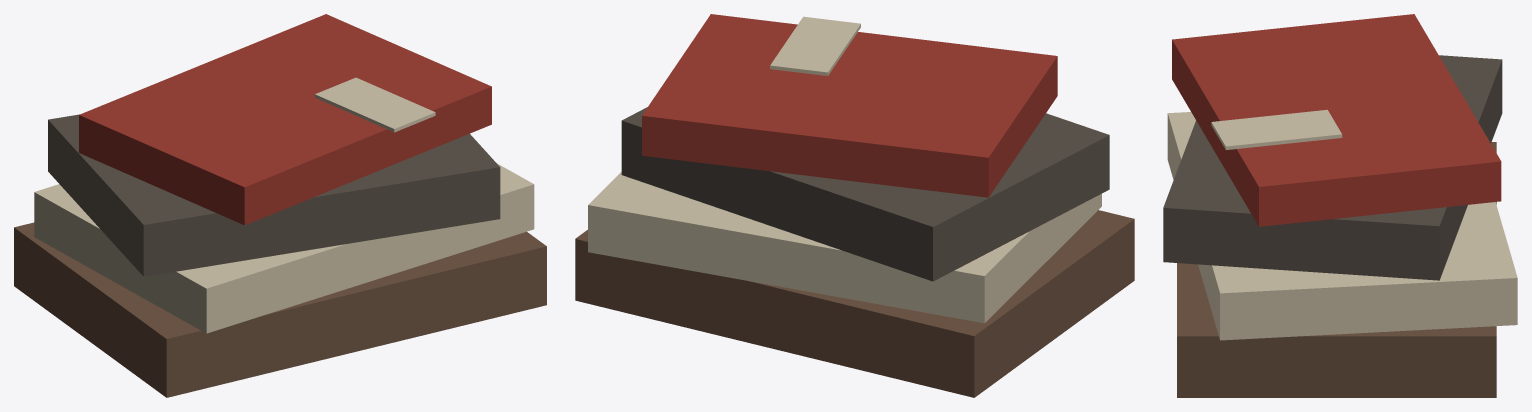
The model's file is book-stack.glb.
3 views of the same model, side by side, from view 1: azimuth 30°, elevation 25°; view 2: azimuth 150°, elevation 25°; view 3: azimuth 270°, elevation 25° (orthographic). The views are drawn at different scales.
Visible parts, largest first — view 1: accent-warm, wood, fabric, paper; view 2: accent-warm, wood, fabric, paper; view 3: accent-warm, paper, fabric, wood.
Boxes of the visible parts, <box> form: accent-warm: <box>79,14,491,225</box>; wood: <box>14,222,546,397</box>; fabric: <box>48,114,500,276</box>; paper: <box>34,77,534,333</box>; accent-warm: <box>642,14,1057,197</box>; wood: <box>575,210,1134,397</box>; fabric: <box>621,107,1109,281</box>; paper: <box>588,16,1101,323</box>; accent-warm: <box>1172,14,1501,226</box>; paper: <box>1167,109,1517,340</box>; fabric: <box>1163,55,1502,280</box>; wood: <box>1177,142,1496,397</box>.
Size of the model in its own units: 0.2348 by 0.114 by 0.1773.
